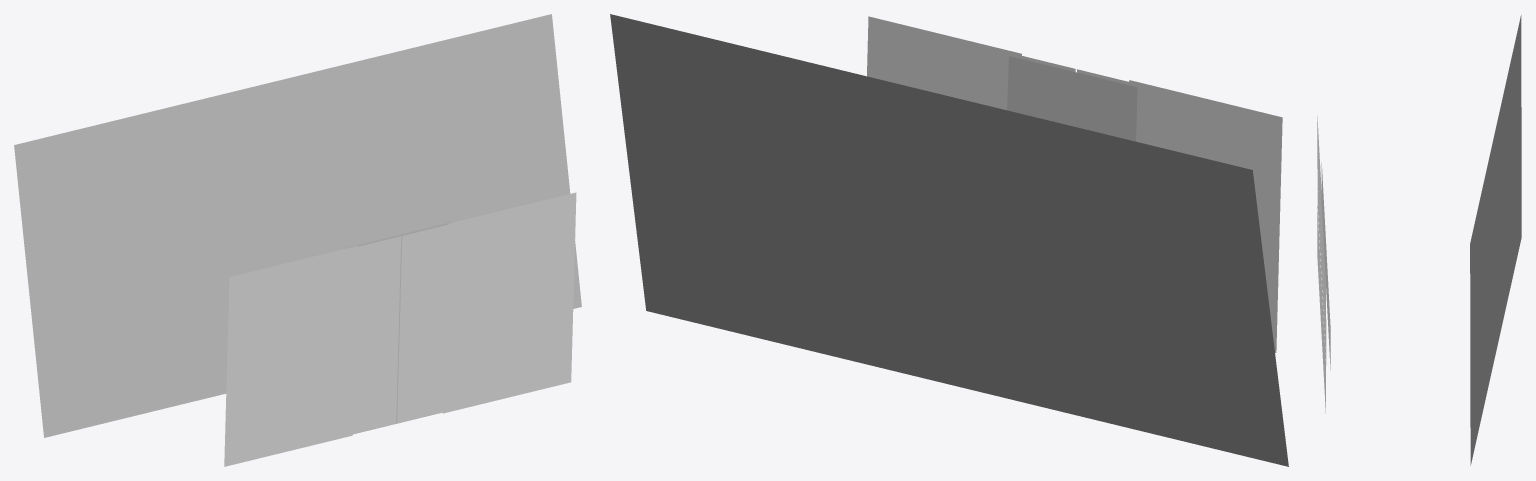
The model's file is dor2.FBX.
3 renders of one model, left to right at view 1: azimuth 30°, elevation 25°; view 2: azimuth 150°, elevation 25°; view 3: azimuth 270°, elevation 25°, orthographic. The views are drawn at different scales.
Parts seen in each view (by area): view 1: Plane001, Plane003, Plane002, Plane006, Plane007, Line001; view 2: Plane001, Plane002, Plane003, Line001; view 3: Plane001, Plane003, Line001, Plane002, Plane006, Plane007.
Part boxes in pixels (x1,y1,x2,y2): Plane001: [14, 14, 581, 437]; Plane003: [442, 192, 576, 413]; Plane002: [224, 245, 357, 466]; Plane006: [397, 225, 447, 422]; Plane007: [353, 236, 401, 433]; Line001: [345, 222, 452, 434]; Plane001: [610, 14, 1288, 466]; Plane002: [1129, 80, 1282, 352]; Plane003: [867, 16, 1021, 110]; Line001: [1007, 56, 1137, 141]; Plane001: [1470, 15, 1521, 465]; Plane003: [1317, 206, 1325, 413]; Line001: [1321, 162, 1330, 370]; Plane002: [1317, 116, 1325, 312]; Plane006: [1317, 186, 1326, 364]; Plane007: [1317, 163, 1326, 341].
Bounding box in the file's own units: 153 × 73.84 × 59.48.
